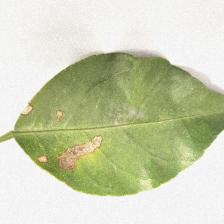canker: (36, 97, 122, 172)
